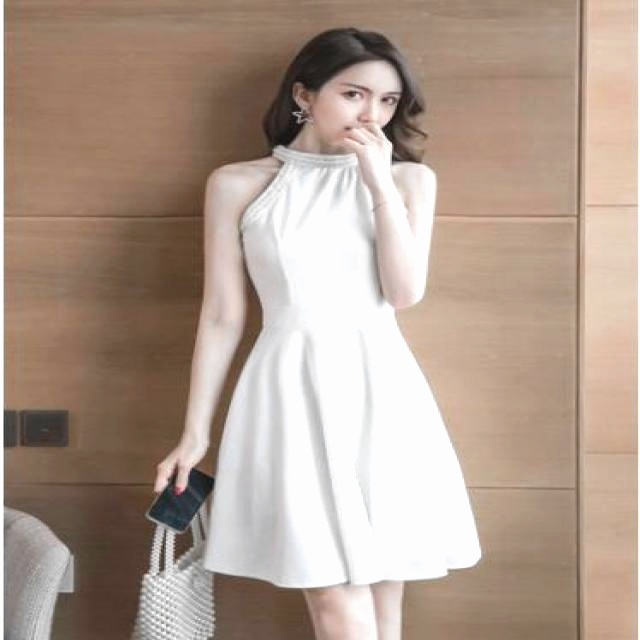Miniskirt: (198, 319, 486, 640)
Sleeveless: (203, 160, 251, 209), (390, 159, 438, 205)
